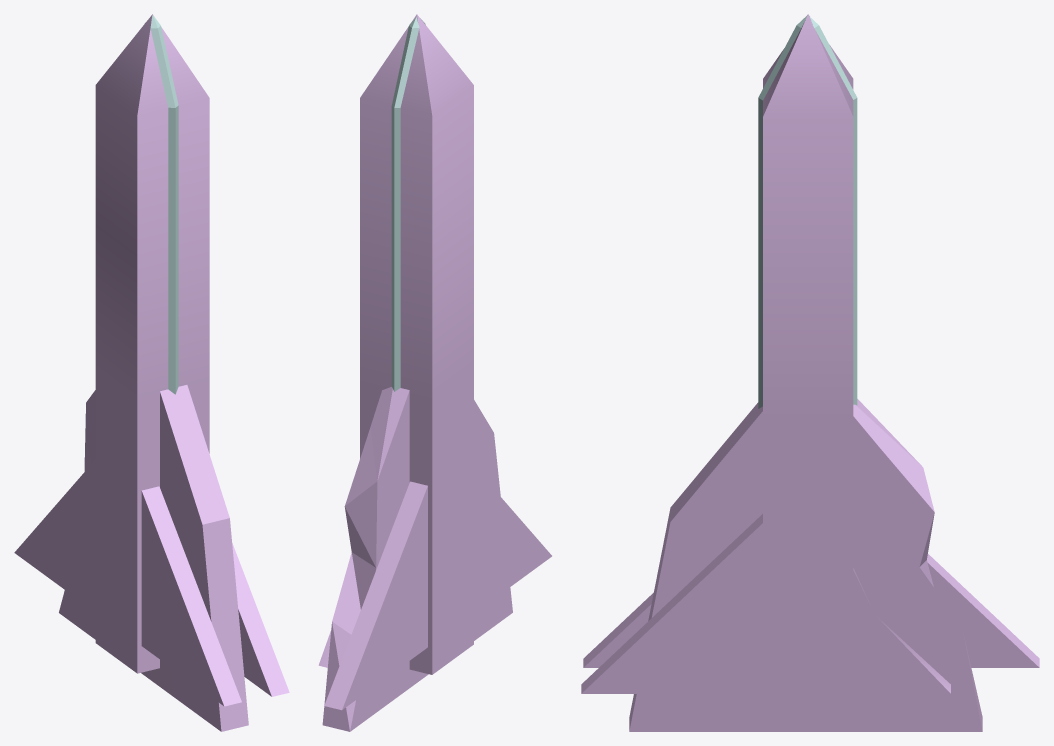
The picture shows the model from 3 angles, left to right: view 1: azimuth 30°, elevation 25°; view 2: azimuth 150°, elevation 25°; view 3: azimuth 270°, elevation 25°; orthographic projection. The views are drawn at different scales.
Visible parts, largest first — view 1: Object15; view 2: Object15; view 3: Object15.
Boxes of the visible parts, x1,y1,x2,y2 form: Object15: (14, 14, 289, 731); Object15: (318, 14, 551, 731); Object15: (581, 14, 1039, 731).
Size of the model in its own units: 69.25 by 601 by 351.
